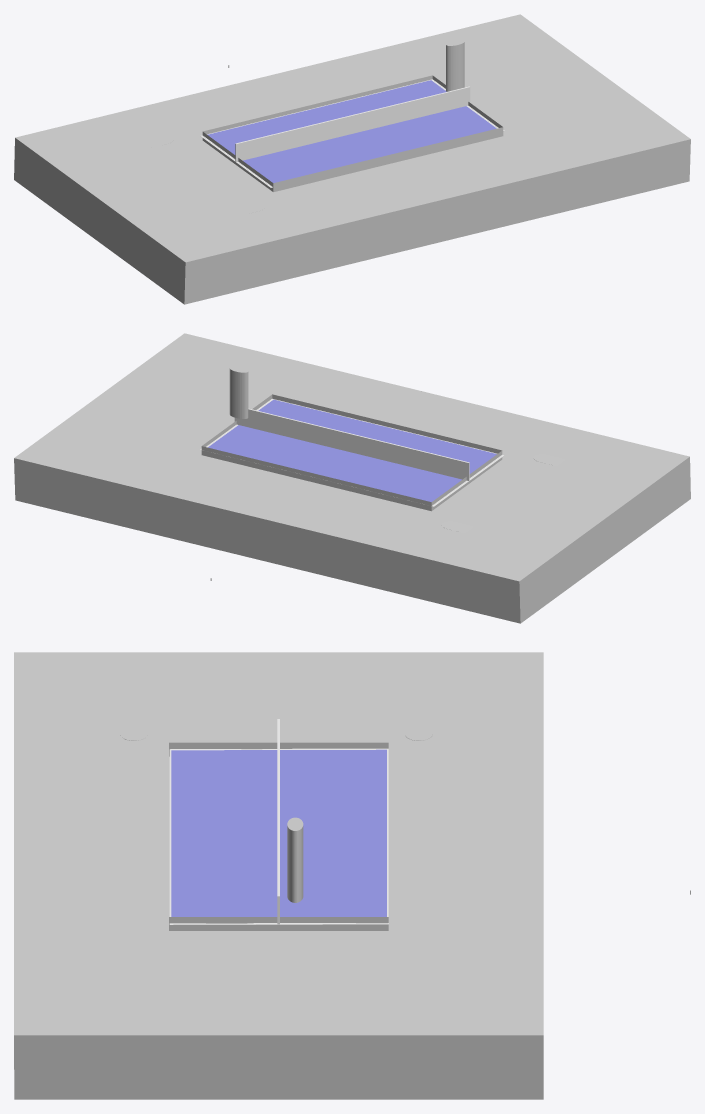
File: pillarroomroughaa.fbx
The picture shows the model from 3 angles, top to bottom: view 1: azimuth 30°, elevation 25°; view 2: azimuth 150°, elevation 25°; view 3: azimuth 270°, elevation 25°; orthographic projection. The views are drawn at different scales.
Parts seen in each view (by area): view 1: Cube.001, Window, CTRL_Hole, Cylinder, Cylinder.001; view 2: Cube.001, Window, CTRL_Hole, Cylinder, Cylinder.001; view 3: Cube.001, Window, Cylinder, Cylinder.001.
Boxes of the visible parts, x1,y1,x2,y2 form: Cube.001: (14,14,690,304); Window: (200,79,504,187); CTRL_Hole: (235,86,470,161); Cylinder: (446,40,464,91); Cylinder.001: (141,136,264,215); Cube.001: (14,333,690,623); Window: (200,398,504,506); CTRL_Hole: (234,408,469,480); Cylinder: (229,367,248,418); Cylinder.001: (441,454,564,532); Cube.001: (14,652,543,1099); Window: (169,748,388,924); Cylinder: (287,817,303,902); Cylinder.001: (119,720,432,740).
Bounding box in the file's own units: 8923 × 1813 × 6652.
